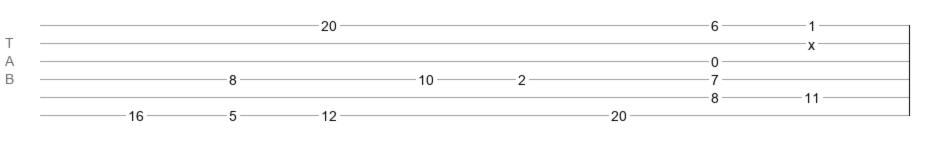0: (711, 54, 719, 64)
1: (808, 18, 816, 28)
10: (418, 72, 434, 82)
11: (804, 90, 820, 100)
12: (321, 108, 337, 118)
16: (128, 108, 144, 118)
2: (518, 72, 526, 82)
20: (321, 18, 337, 28), (611, 108, 627, 118)
5: (229, 108, 237, 118)
6: (711, 18, 719, 28)
7: (711, 72, 719, 82)
8: (229, 72, 237, 82), (711, 90, 719, 100)
x: (808, 37, 815, 45)
